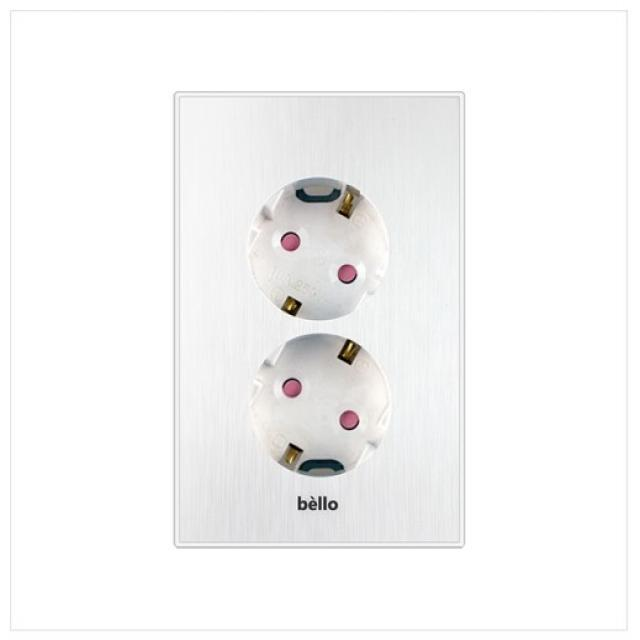typeb: (124, 78, 524, 594)
